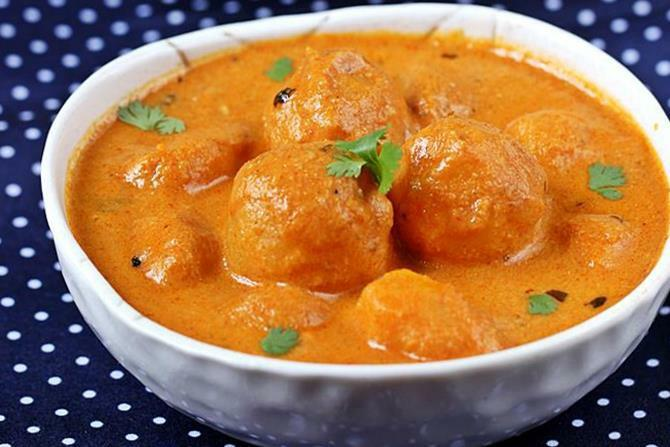DumAloo: (65, 30, 670, 364)
